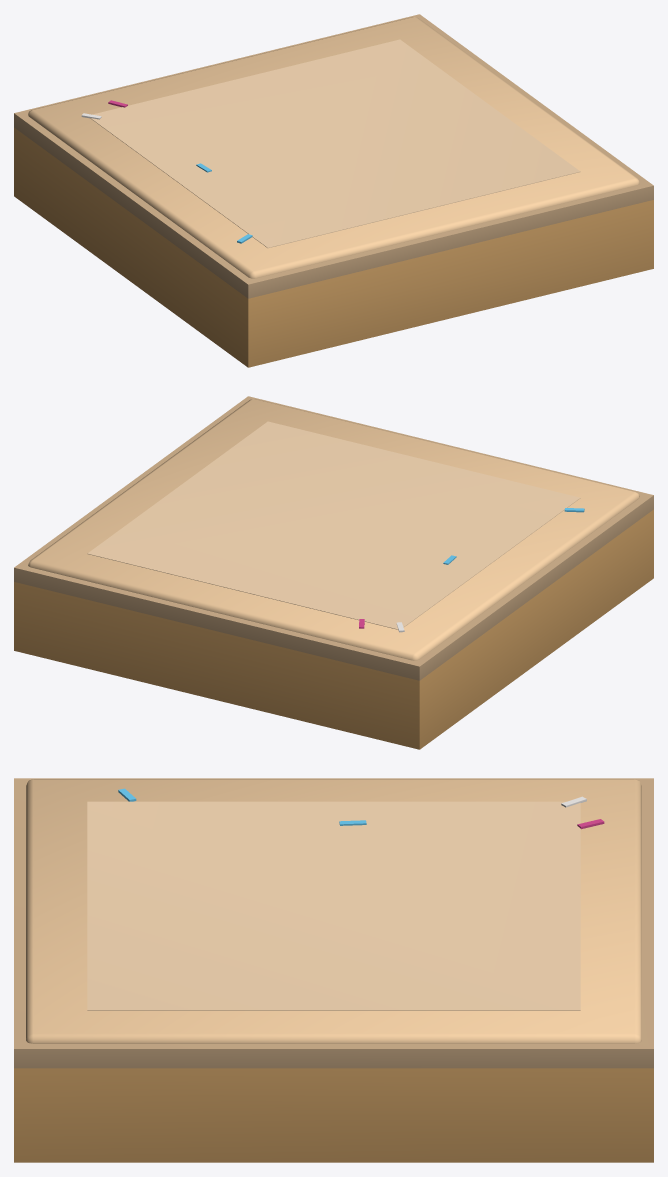
The model's file is candy_tile_cream.glb.
The picture shows the model from 3 angles, top to bottom: view 1: azimuth 30°, elevation 25°; view 2: azimuth 150°, elevation 25°; view 3: azimuth 270°, elevation 25°; orthographic projection. The views are drawn at different scales.
Parts seen in each view (by area): view 1: C_Tile_cream__C_s_cream_5, C_Tile_cream__C_bisc_8, C_Tile_cream__C_i_cream_5, C_Tile_cream__C_g_cream_5; view 2: C_Tile_cream__C_s_cream_5, C_Tile_cream__C_bisc_8, C_Tile_cream__C_i_cream_5, C_Tile_cream__C_g_cream_5; view 3: C_Tile_cream__C_s_cream_5, C_Tile_cream__C_bisc_8, C_Tile_cream__C_i_cream_5, C_Tile_cream__C_g_cream_5.
Part boxes in pixels (x1,y1,x2,y2): C_Tile_cream__C_s_cream_5: (90,39,580,248); C_Tile_cream__C_bisc_8: (14,127,653,367); C_Tile_cream__C_i_cream_5: (28,17,639,278); C_Tile_cream__C_g_cream_5: (14,14,653,298); C_Tile_cream__C_s_cream_5: (87,421,580,629); C_Tile_cream__C_bisc_8: (14,509,653,749); C_Tile_cream__C_i_cream_5: (28,399,639,660); C_Tile_cream__C_g_cream_5: (14,396,653,680); C_Tile_cream__C_s_cream_5: (87,801,580,1010); C_Tile_cream__C_bisc_8: (14,1068,653,1162); C_Tile_cream__C_i_cream_5: (26,779,641,1043); C_Tile_cream__C_g_cream_5: (14,778,653,1068).
Bounding box in the file's own units: 4.8 × 1.02 × 4.8.
